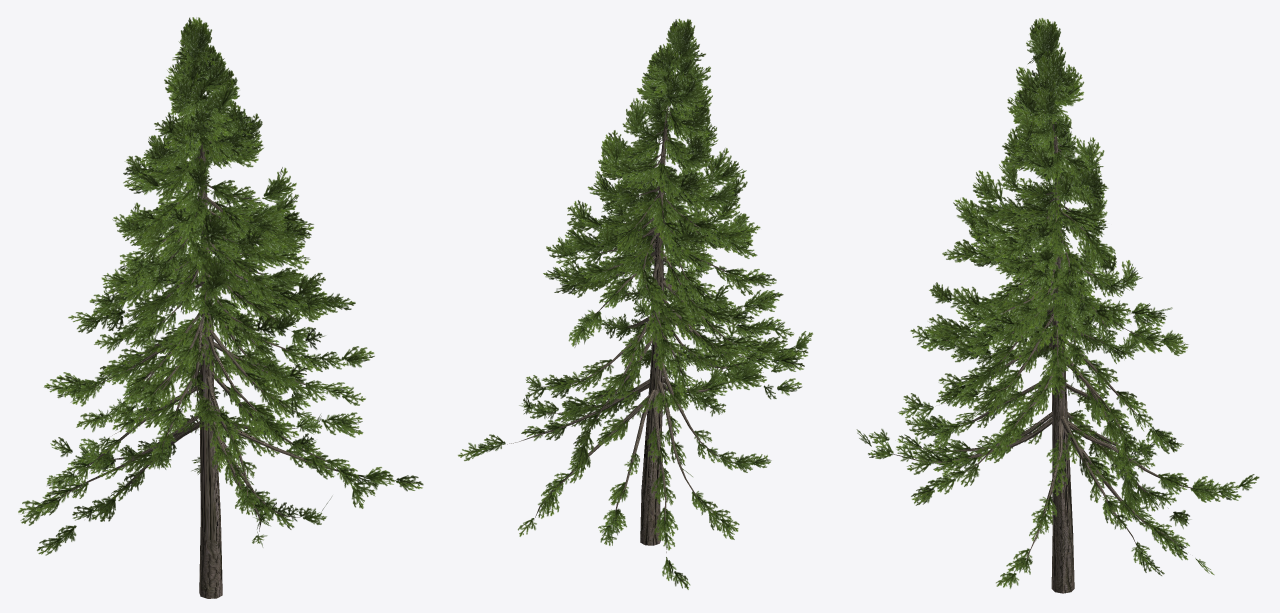
File: pino_grande_2.glb
The picture shows the model from 3 angles, left to right: view 1: azimuth 30°, elevation 25°; view 2: azimuth 150°, elevation 25°; view 3: azimuth 270°, elevation 25°; orthographic projection. The views are drawn at different scales.
Parts seen in each view (by area): view 1: pino_grande_2_hojas, pino_grande_2_ramas; view 2: pino_grande_2_hojas, pino_grande_2_ramas; view 3: pino_grande_2_hojas, pino_grande_2_ramas.
Boxes of the visible parts, x1,y1,x2,y2 form: pino_grande_2_hojas: (18, 17, 423, 555); pino_grande_2_ramas: (54, 135, 361, 598); pino_grande_2_hojas: (458, 18, 812, 589); pino_grande_2_ramas: (507, 105, 763, 552); pino_grande_2_hojas: (856, 18, 1259, 588); pino_grande_2_ramas: (890, 121, 1219, 593).
Size of the model in its own units: 11.13 by 18.36 by 12.41.
2 materials, 2 textured.
